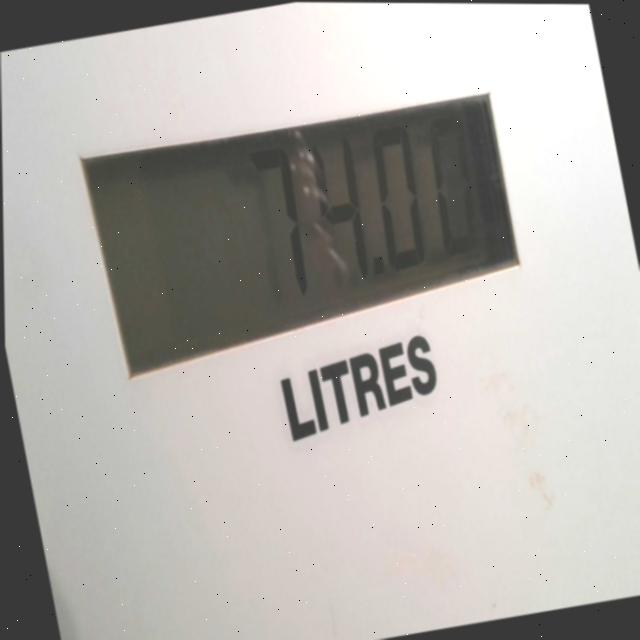.: (365, 244, 391, 287)
0: (358, 115, 440, 281), (415, 102, 495, 267)
4: (298, 129, 378, 293)
7: (243, 130, 323, 300)
